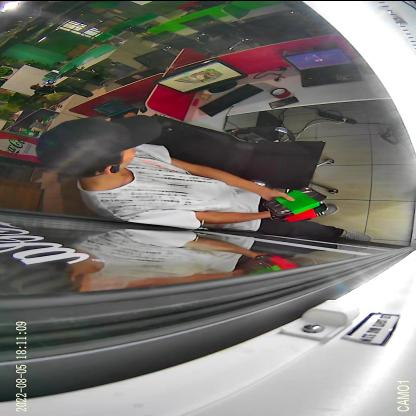green: (262, 186, 328, 216)
red: (268, 201, 328, 222)
